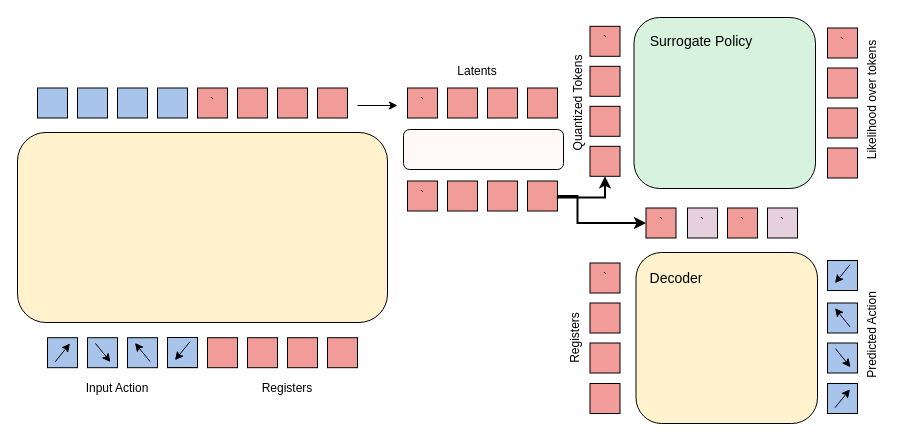
Some shapes in this 905 by 441 pixel diagram are drawn without their labels. The centre of each missing label's shape, as x and y in pixels:
"Encoder" goes at (202,227).
"FSQ Quantization" goes at (483,149).
